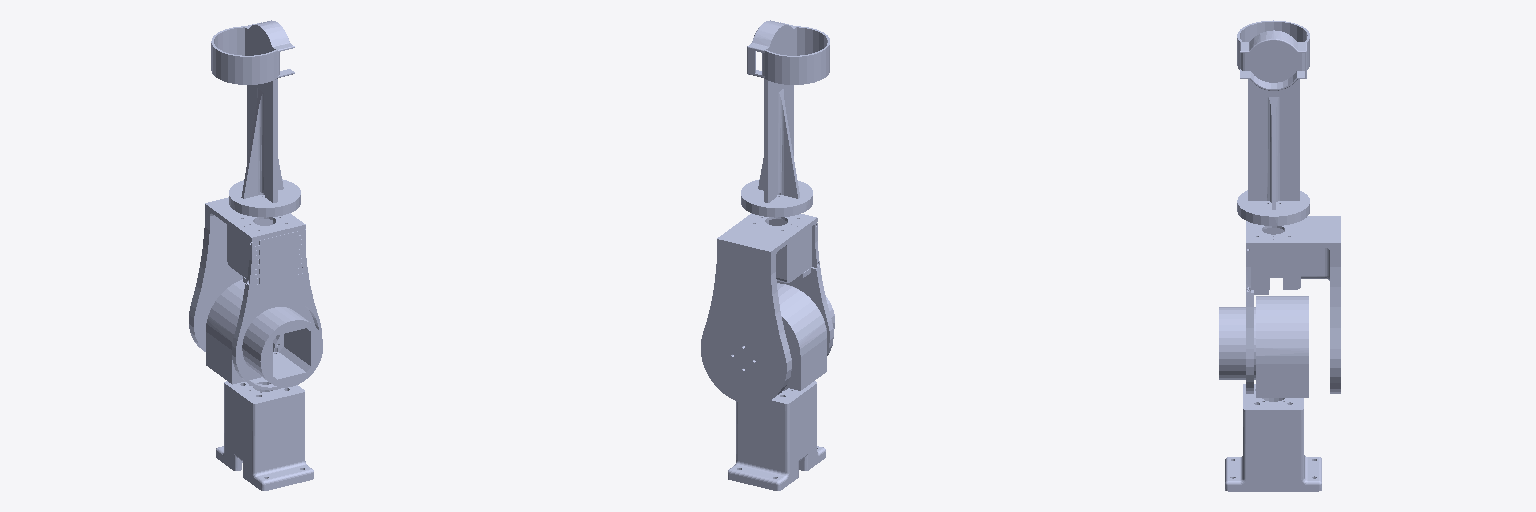
The robot description file, URDF, robot "Assembly_v12":
<?xml version="1.0" encoding="utf-8"?>
<!-- This URDF was automatically created by SolidWorks to URDF Exporter! Originally created by [author] ([email redacted]) 
     Commit Version: 1.6.0-4-g7f85cfe  Build Version: 1.6.7995.38578
     For more information, please see http://wiki.ros.org/sw_urdf_exporter -->
<robot
  name="Assembly_v12">
  <link
    name="base_link">
    <inertial>
      <origin
        xyz="0.00023215 -4.0035E-07 -0.043176"
        rpy="0 0 0" />
      <mass
        value="0.17945" />
      <inertia
        ixx="0.00022466"
        ixy="-2.2753E-11"
        ixz="1.4658E-06"
        iyy="0.00020154"
        iyz="-2.7159E-09"
        izz="0.00016403" />
    </inertial>
    <visual>
      <origin
        xyz="0 0 0"
        rpy="0 0 0" />
      <geometry>
        <mesh
          filename="package://Assembly_v12/meshes/base_link.STL" />
      </geometry>
      <material
        name="">
        <color
          rgba="0.79216 0.81961 0.93333 1" />
      </material>
    </visual>
    <collision>
      <origin
        xyz="0 0 0"
        rpy="0 0 0" />
      <geometry>
        <mesh
          filename="package://Assembly_v12/meshes/base_link.STL" />
      </geometry>
    </collision>
  </link>
  <link
    name="link_1">
    <inertial>
      <origin
        xyz="2.3176E-15 0.00037581 0.0016461"
        rpy="0 0 0" />
      <mass
        value="0.32236" />
      <inertia
        ixx="0.00033697"
        ixy="2.6219E-19"
        ixz="2.6975E-17"
        iyy="0.00040435"
        iyz="-5.2877E-06"
        izz="0.00039395" />
    </inertial>
    <visual>
      <origin
        xyz="0 0 0"
        rpy="0 0 0" />
      <geometry>
        <mesh
          filename="package://Assembly_v12/meshes/link_1.STL" />
      </geometry>
      <material
        name="">
        <color
          rgba="0.79216 0.81961 0.93333 1" />
      </material>
    </visual>
    <collision>
      <origin
        xyz="0 0 0"
        rpy="0 0 0" />
      <geometry>
        <mesh
          filename="package://Assembly_v12/meshes/link_1.STL" />
      </geometry>
    </collision>
  </link>
  <joint
    name="joint_1"
    type="revolute">
    <origin
      xyz="0 0 0.056"
      rpy="0 0 0" />
    <parent
      link="base_link" />
    <child
      link="link_1" />
    <axis
      xyz="0 0 1" />
    <limit
      lower="0"
      upper="0"
      effort="0"
      velocity="0" />
  </joint>
  <link
    name="link_2">
    <inertial>
      <origin
        xyz="-8.421E-05 -0.056873 0.033406"
        rpy="0 0 0" />
      <mass
        value="0.22229" />
      <inertia
        ixx="0.00060881"
        ixy="-3.4395E-07"
        ixz="-7.8737E-07"
        iyy="0.00020731"
        iyz="-0.00011725"
        izz="0.0006063" />
    </inertial>
    <visual>
      <origin
        xyz="0 0 0"
        rpy="0 0 0" />
      <geometry>
        <mesh
          filename="package://Assembly_v12/meshes/link_2.STL" />
      </geometry>
      <material
        name="">
        <color
          rgba="0.79216 0.81961 0.93333 1" />
      </material>
    </visual>
    <collision>
      <origin
        xyz="0 0 0"
        rpy="0 0 0" />
      <geometry>
        <mesh
          filename="package://Assembly_v12/meshes/link_2.STL" />
      </geometry>
    </collision>
  </link>
  <joint
    name="joint_2"
    type="revolute">
    <origin
      xyz="0 0 0"
      rpy="-1.5708 0 0" />
    <parent
      link="link_1" />
    <child
      link="link_2" />
    <axis
      xyz="0 0 1" />
    <limit
      lower="0"
      upper="0"
      effort="0"
      velocity="0" />
  </joint>
  <link
    name="link_3">
    <inertial>
      <origin
        xyz="-0.004185 0.00014021 -0.089891"
        rpy="0 0 0" />
      <mass
        value="0.10779" />
      <inertia
        ixx="0.000479"
        ixy="-2.1363E-07"
        ixz="3.0891E-05"
        iyy="0.00047414"
        iyz="-1.3608E-06"
        izz="5.6868E-05" />
    </inertial>
    <visual>
      <origin
        xyz="0 0 0"
        rpy="0 0 0" />
      <geometry>
        <mesh
          filename="package://Assembly_v12/meshes/link_3.STL" />
      </geometry>
      <material
        name="">
        <color
          rgba="0.79216 0.81961 0.93333 1" />
      </material>
    </visual>
    <collision>
      <origin
        xyz="0 0 0"
        rpy="0 0 0" />
      <geometry>
        <mesh
          filename="package://Assembly_v12/meshes/link_3.STL" />
      </geometry>
    </collision>
  </link>
  <joint
    name="joint_3"
    type="revolute">
    <origin
      xyz="0 -0.3 0"
      rpy="1.5708 0 0" />
    <parent
      link="link_2" />
    <child
      link="link_3" />
    <axis
      xyz="0 0 -1" />
    <limit
      lower="0"
      upper="0"
      effort="0"
      velocity="0" />
  </joint>
</robot>

--- What the picture shows (computed from the rendered views, not written in the file) ---
Views: 3 orthographic renders of the robot side by side, from view 1: azimuth 30°, elevation 25°; view 2: azimuth 150°, elevation 25°; view 3: azimuth 270°, elevation 25°.
Robot: Assembly_v12 — 4 links, 3 joints (3 revolute); root link base_link; default pose: all joints at 0.
Links seen in each view (by area): view 1: link_2, link_3, link_1, base_link; view 2: link_2, link_3, base_link, link_1; view 3: link_3, link_2, link_1, base_link.
Link boxes in pixels (x1=…): link_2: x1=189, y1=197, x2=321, y2=390; link_3: x1=211, y1=20, x2=300, y2=217; link_1: x1=206, y1=279, x2=322, y2=387; base_link: x1=216, y1=377, x2=313, y2=490; link_2: x1=701, y1=213, x2=833, y2=404; link_3: x1=741, y1=20, x2=829, y2=217; base_link: x1=728, y1=381, x2=825, y2=490; link_1: x1=777, y1=283, x2=834, y2=390; link_3: x1=1237, y1=20, x2=1309, y2=225; link_2: x1=1246, y1=216, x2=1340, y2=393; link_1: x1=1219, y1=296, x2=1308, y2=397; base_link: x1=1225, y1=384, x2=1321, y2=491.
Size in the robot's own frame: 0.1021 by 0.116 by 0.4695 metres.
4 mesh visuals loaded from 4 distinct referenced files (4 binary STL).